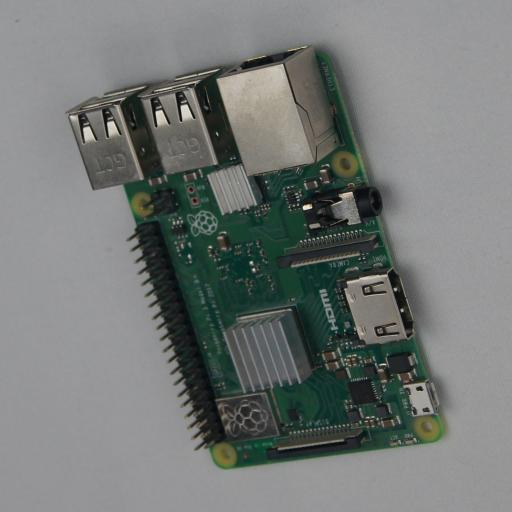Raspberry Pi 3 B-: (68, 45, 443, 469)
